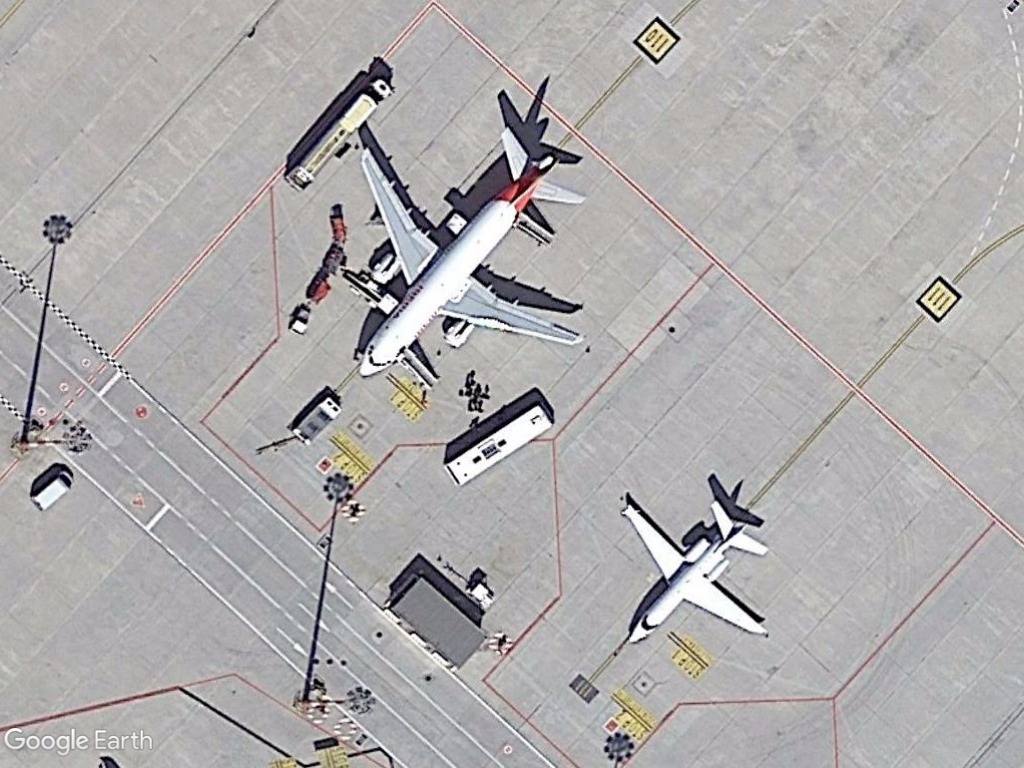airliner: (341, 116, 606, 385)
bus: (440, 400, 559, 488)
chartered: (609, 487, 779, 656)
longvehicle: (281, 76, 400, 198)
van: (29, 466, 80, 514)
